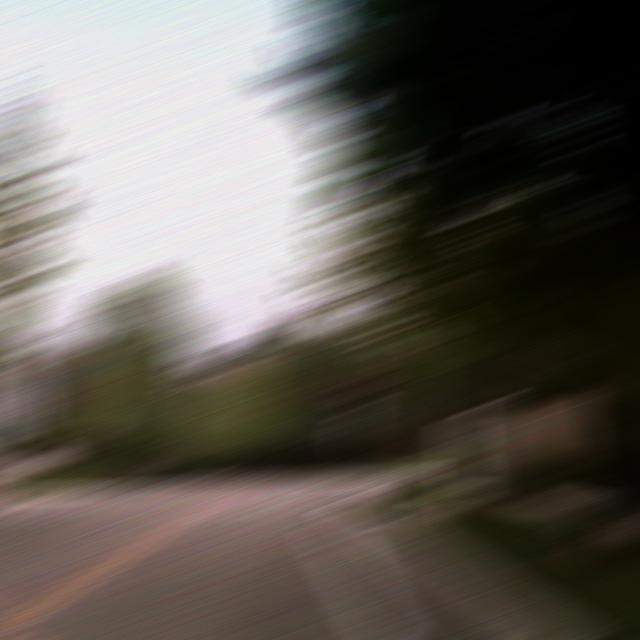stop_sign: (338, 377, 381, 403)
